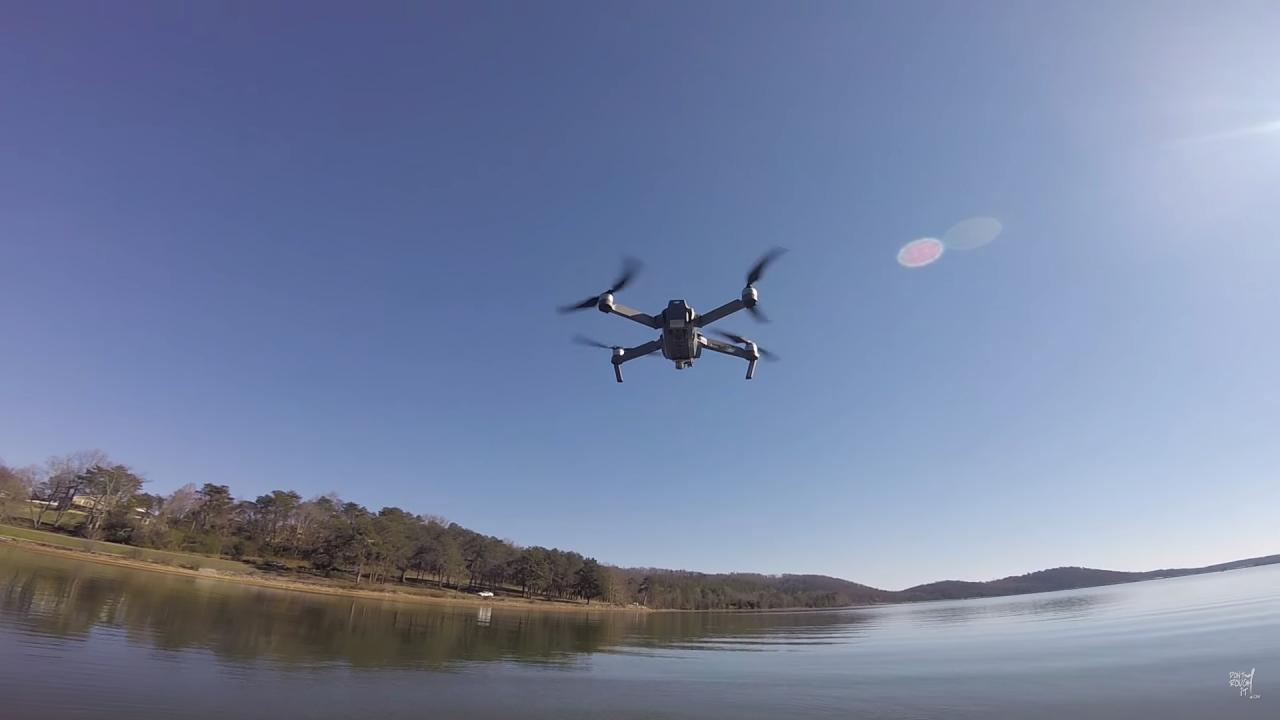Drone: (547, 233, 800, 400)
